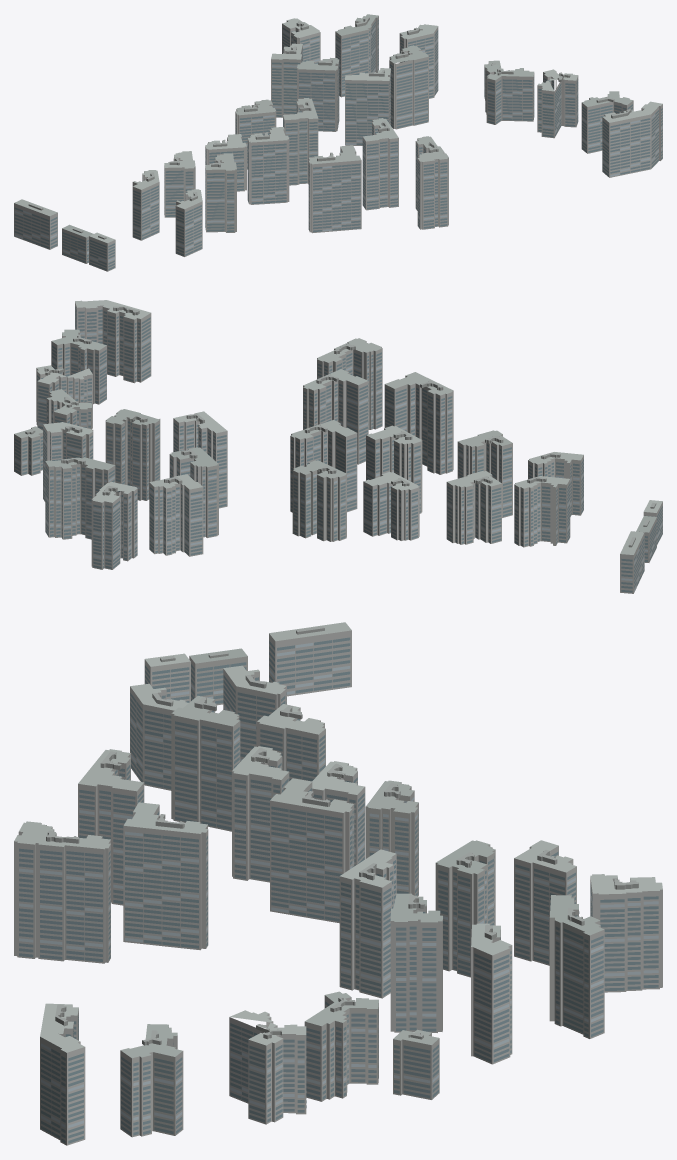
The model's file is apt-a10024872.glb.
The picture shows the model from 3 angles, top to bottom: view 1: azimuth 30°, elevation 25°; view 2: azimuth 150°, elevation 25°; view 3: azimuth 270°, elevation 25°; orthographic projection. The views are drawn at different scales.
Visible parts, largest first — view 1: apt-a10024872; view 2: apt-a10024872; view 3: apt-a10024872.
Boxes of the visible parts, box(x1,y1,x2,y2) form: apt-a10024872: box(14, 14, 662, 271); apt-a10024872: box(14, 300, 662, 593); apt-a10024872: box(14, 622, 662, 1145).
Bounding box in the file's own units: 556 × 67 × 327.
